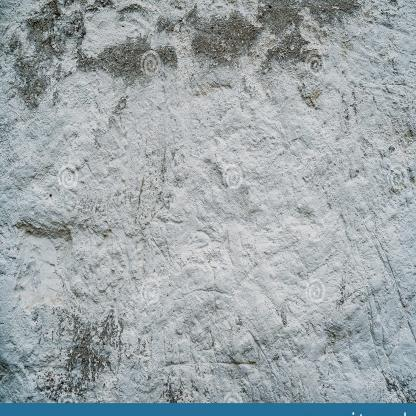Sedimentary_Chalk: (182, 105, 362, 383), (5, 110, 164, 390), (375, 22, 415, 398)
